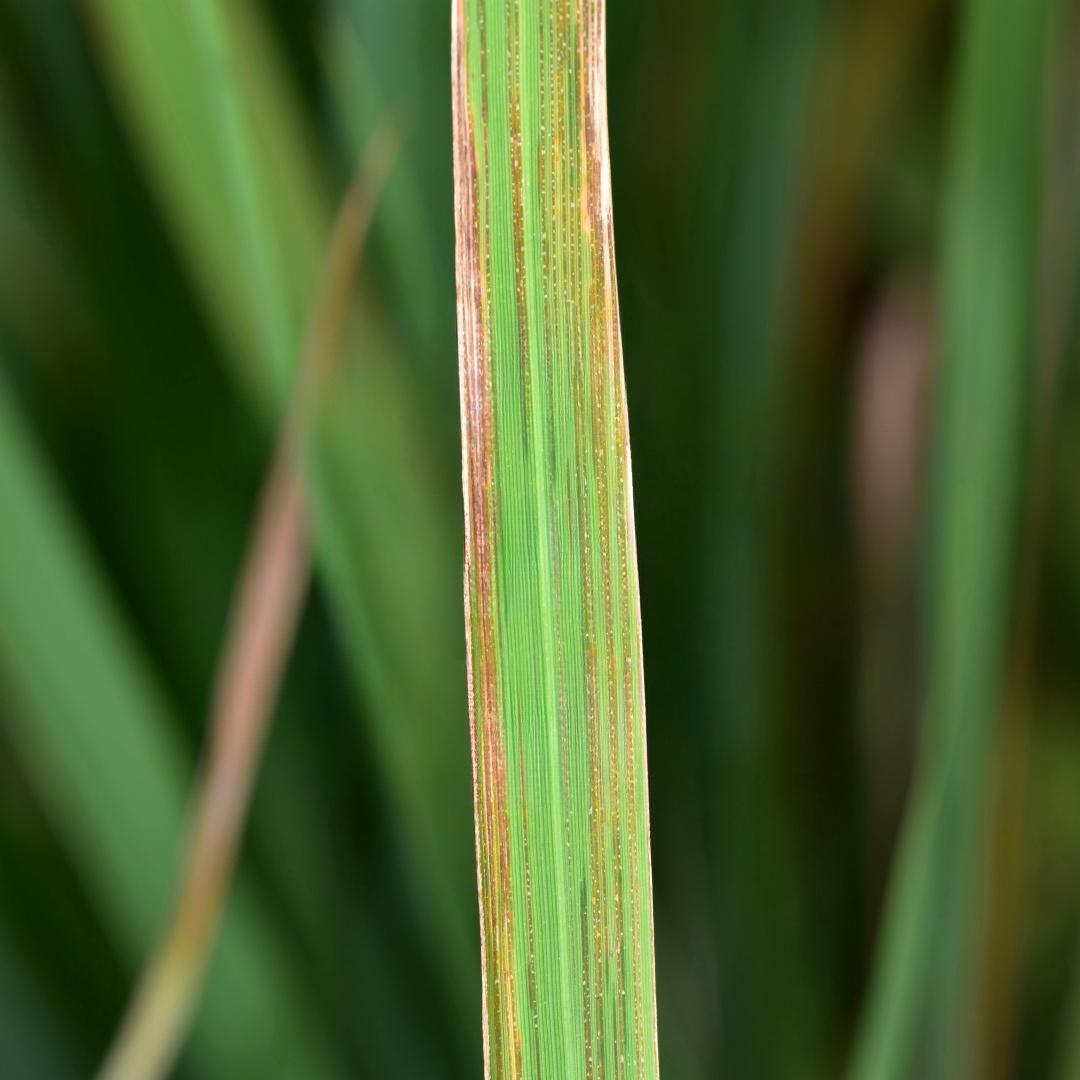BLS: (573, 0, 660, 1079), (451, 0, 524, 1079), (538, 0, 578, 1053), (573, 315, 609, 1079), (506, 0, 531, 465), (550, 0, 577, 349), (518, 710, 541, 1079), (580, 878, 593, 1079), (567, 459, 573, 572)
LEAF: (451, 0, 660, 1079)
